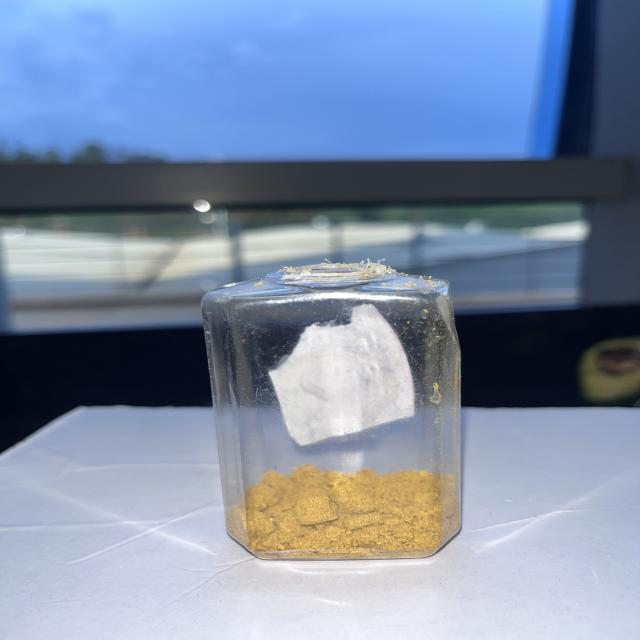curry_powder: (223, 464, 457, 554)
